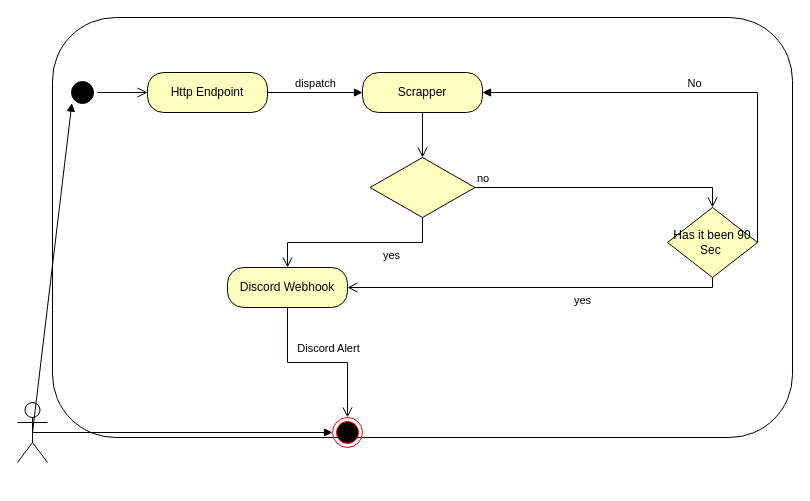
This 810x501 diagram has some shape labels left out. The box of each missing label's shape, as (x1, y1, x2, y2) in pixels:
<10000 Bytes: (369, 156, 475, 218)
Actor: (16, 402, 48, 462)
